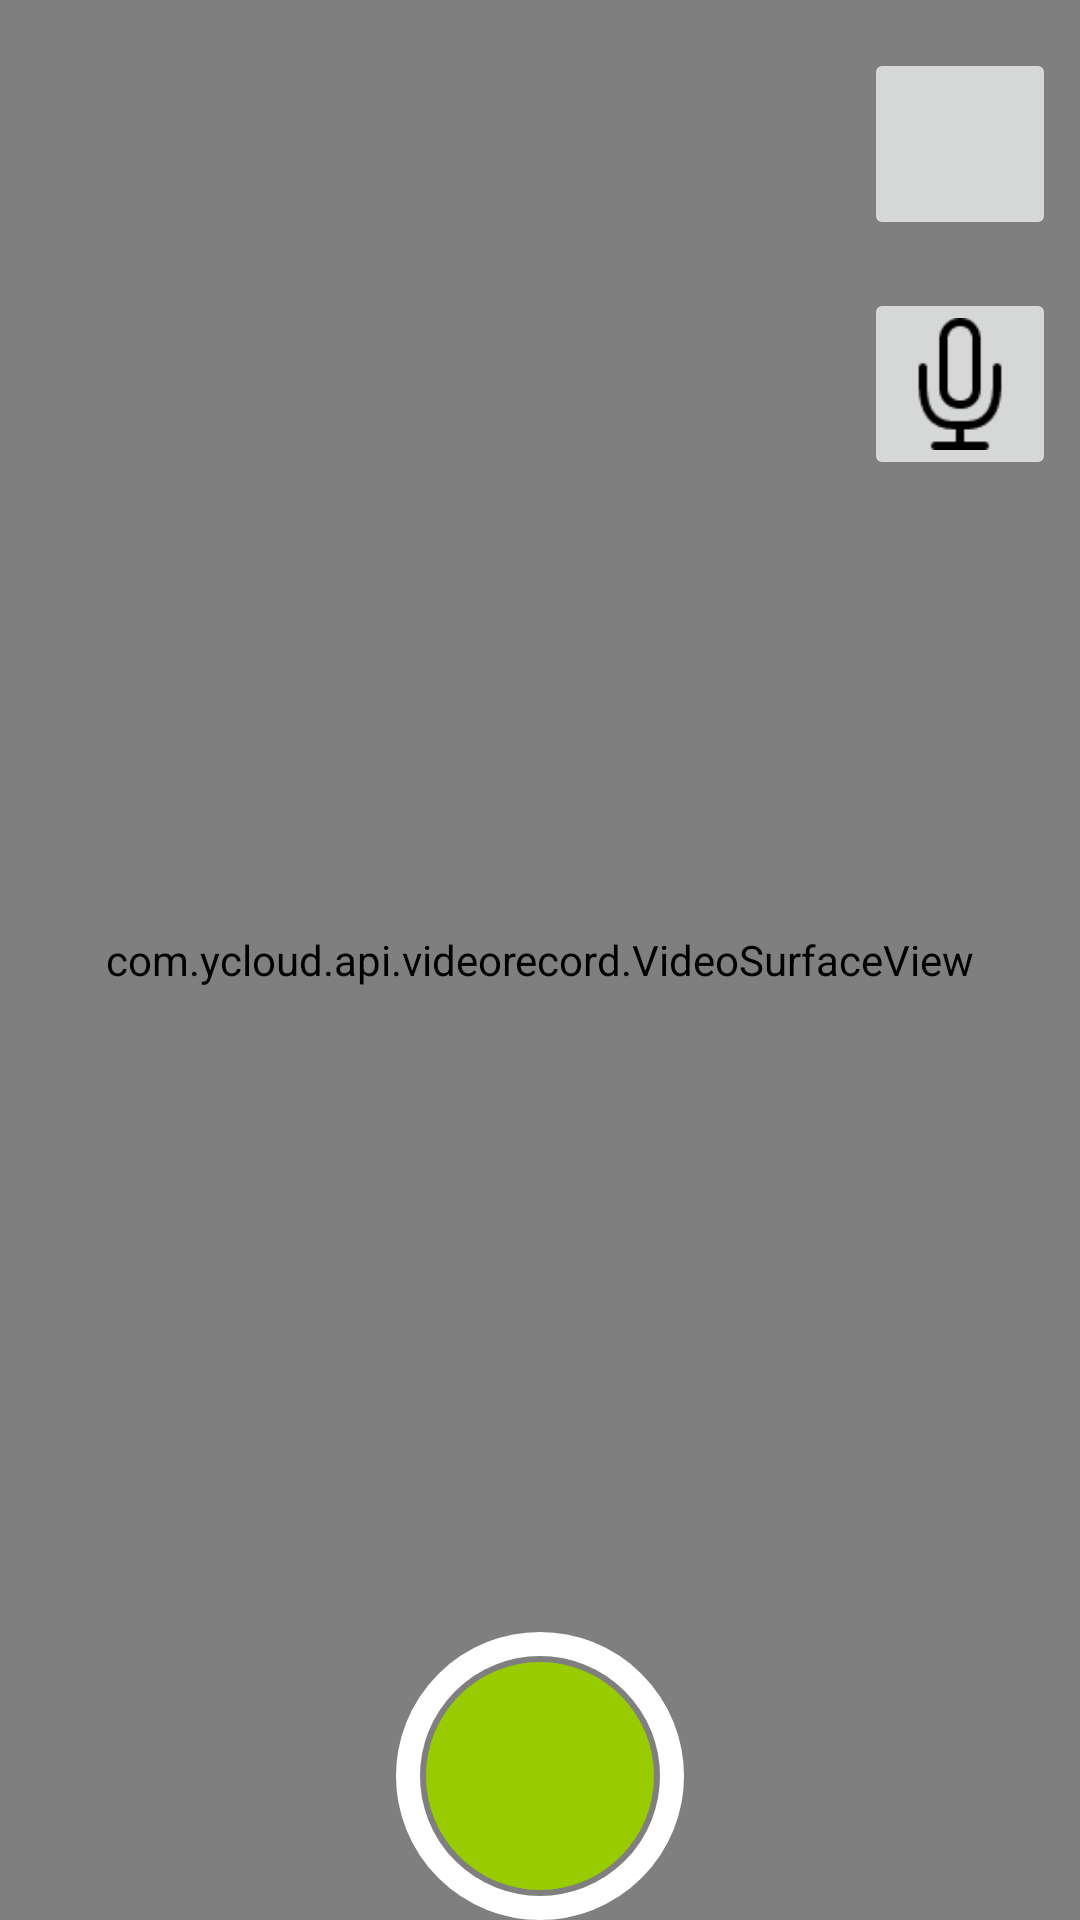

Where to tap for icons on this 1080px x 1920px app screen, as (x,y):
mic not mute: (960,384)
